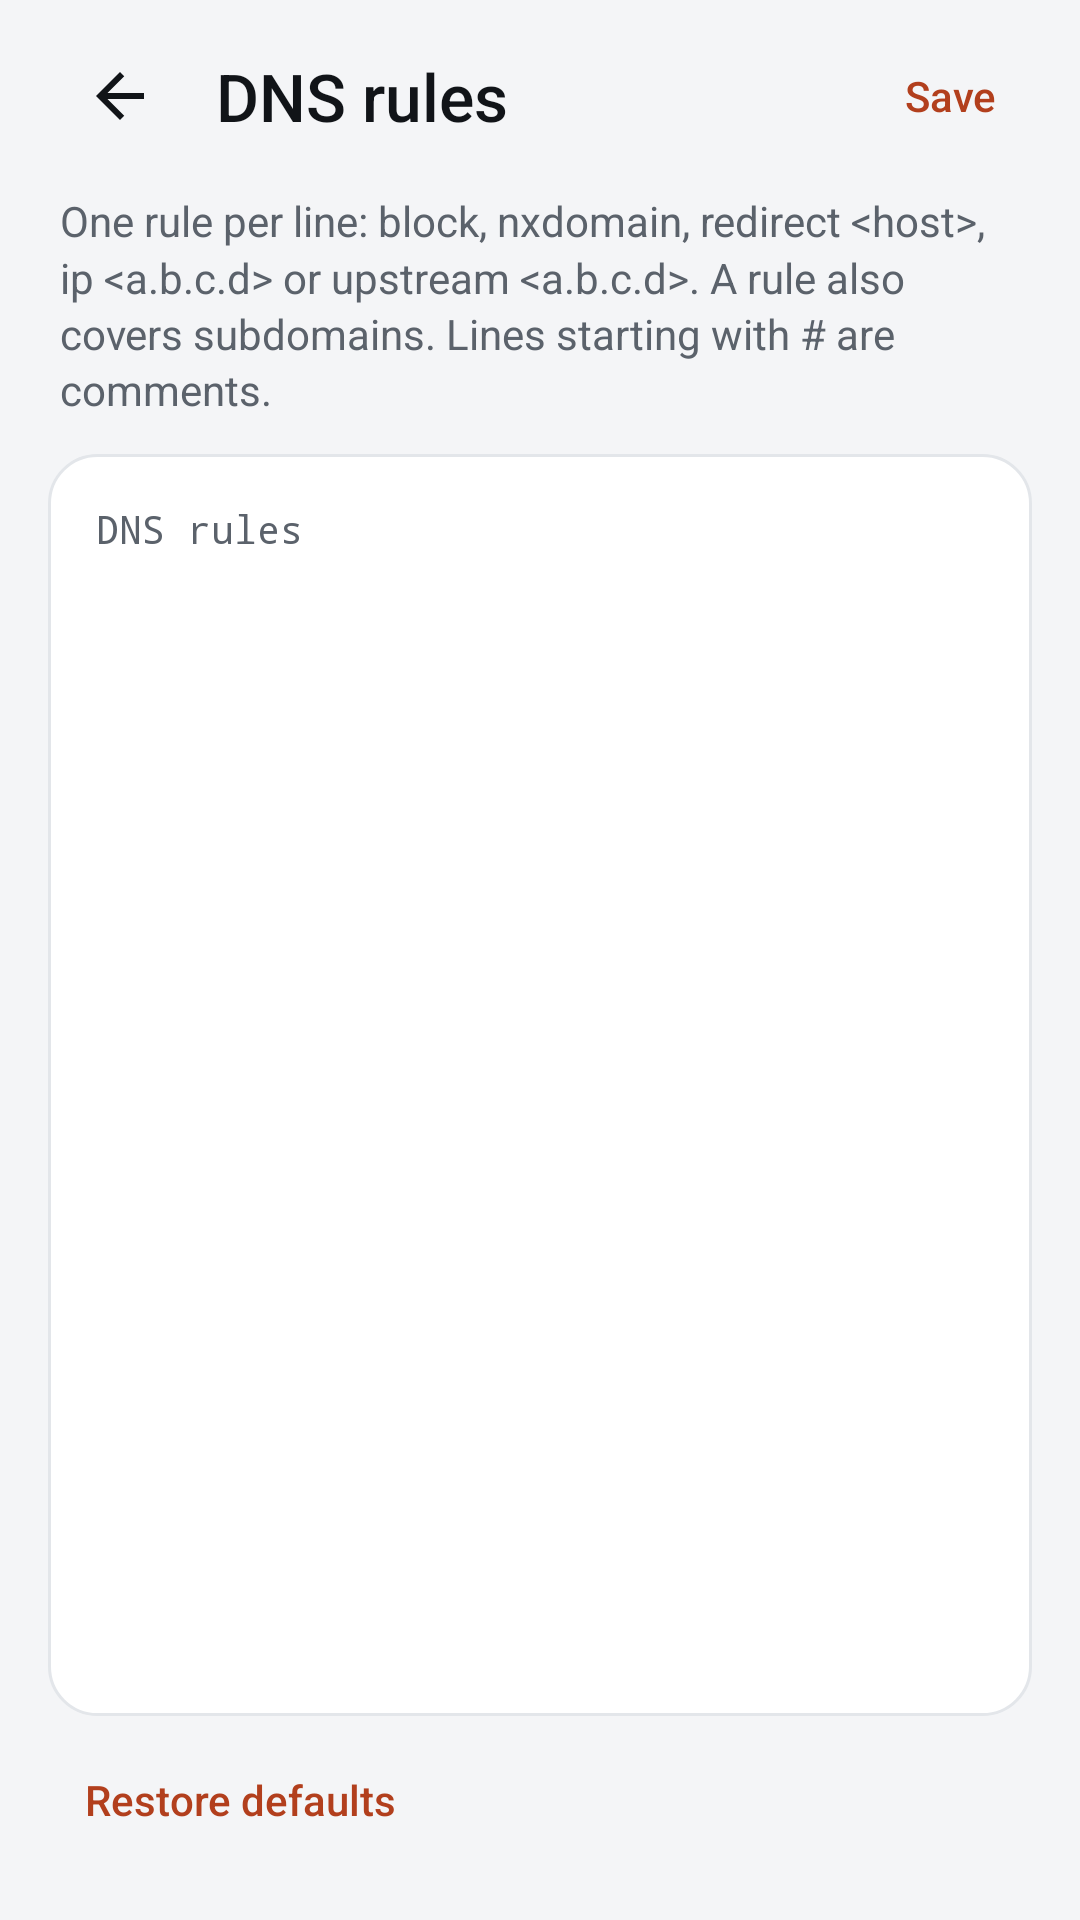

Icons on this 1080px x 1920px Android screen, each with its box as box(x1, y1, x2, y2):
Back: box(96, 72, 144, 120)
